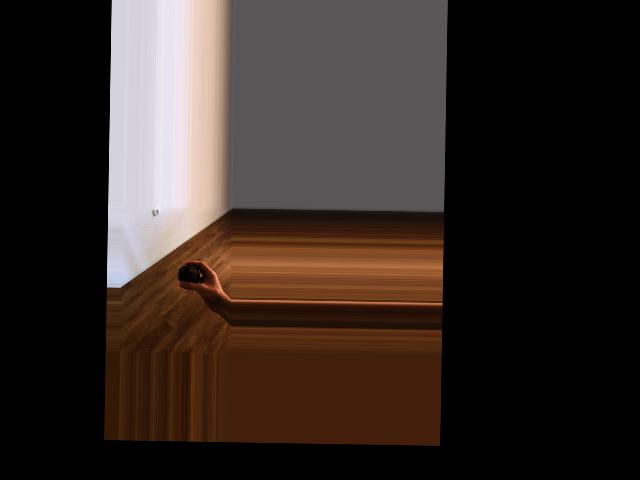beet: (177, 264, 199, 293)
